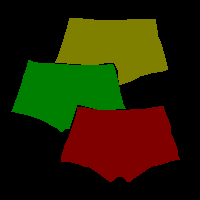mutande: (61, 105, 180, 182), (11, 59, 126, 132), (54, 17, 168, 85)
